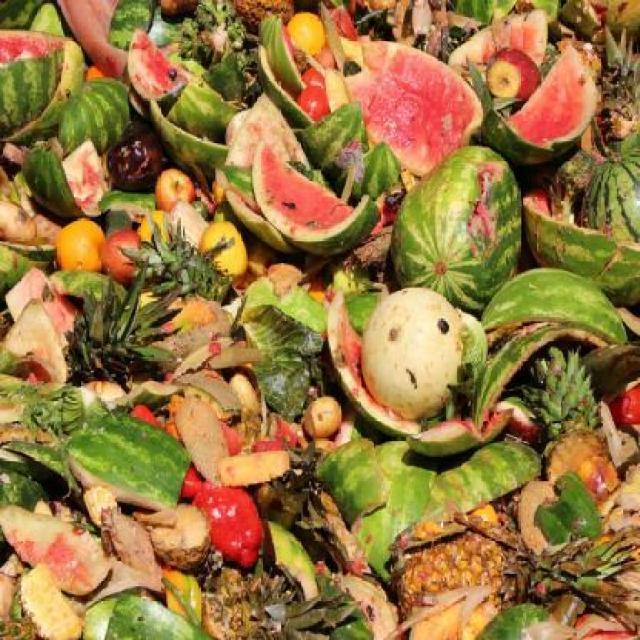garbage: (34, 2, 616, 606)
